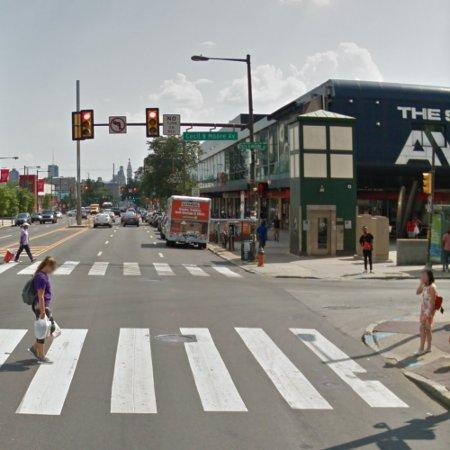crosswalks: (0, 324, 412, 417)
